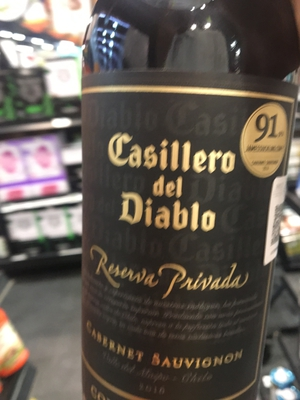casillero del diablo reserva privada cabernet sauvignon: (71, 10, 292, 400)
